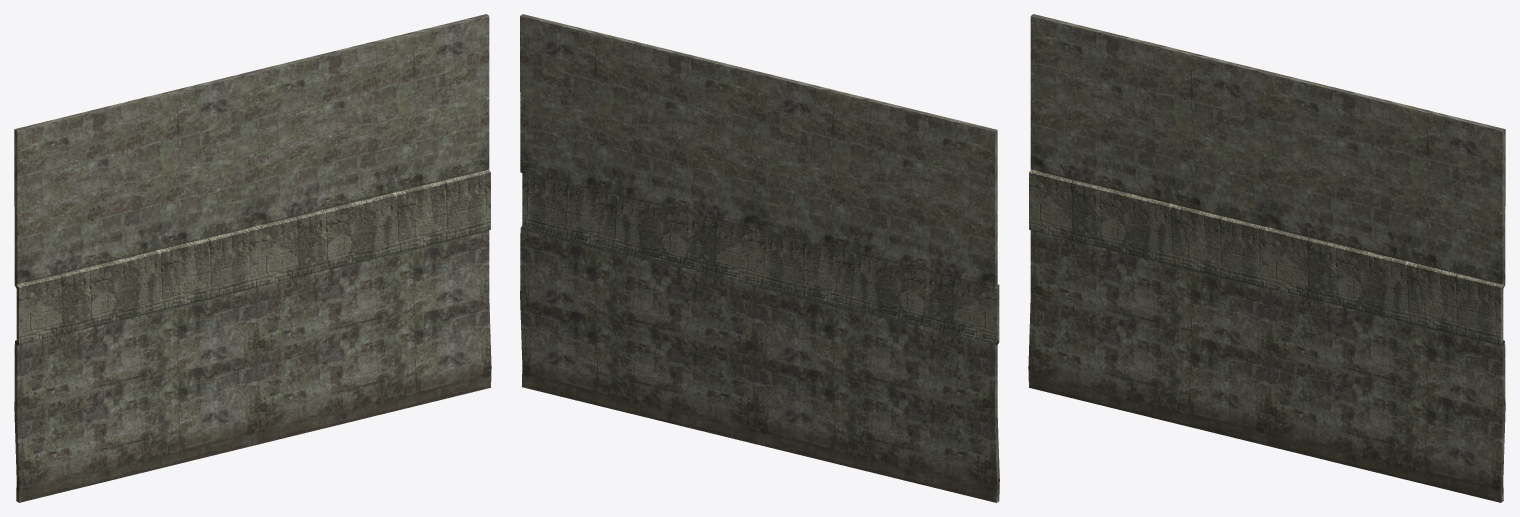
File: wall2ground.fbx
3 renders of one model, left to right at view 1: azimuth 30°, elevation 25°; view 2: azimuth 150°, elevation 25°; view 3: azimuth 330°, elevation 25°, orthographic.
Visible parts, largest first — view 1: Mesh Object; view 2: Mesh Object; view 3: Mesh Object.
Part boxes in pixels (left/top/right/bottom): Mesh Object: left=14, top=14, right=491, bottom=502; Mesh Object: left=520, top=14, right=999, bottom=502; Mesh Object: left=1028, top=14, right=1505, bottom=502.
Size of the model in its own units: 4 by 3 by 0.0729.
